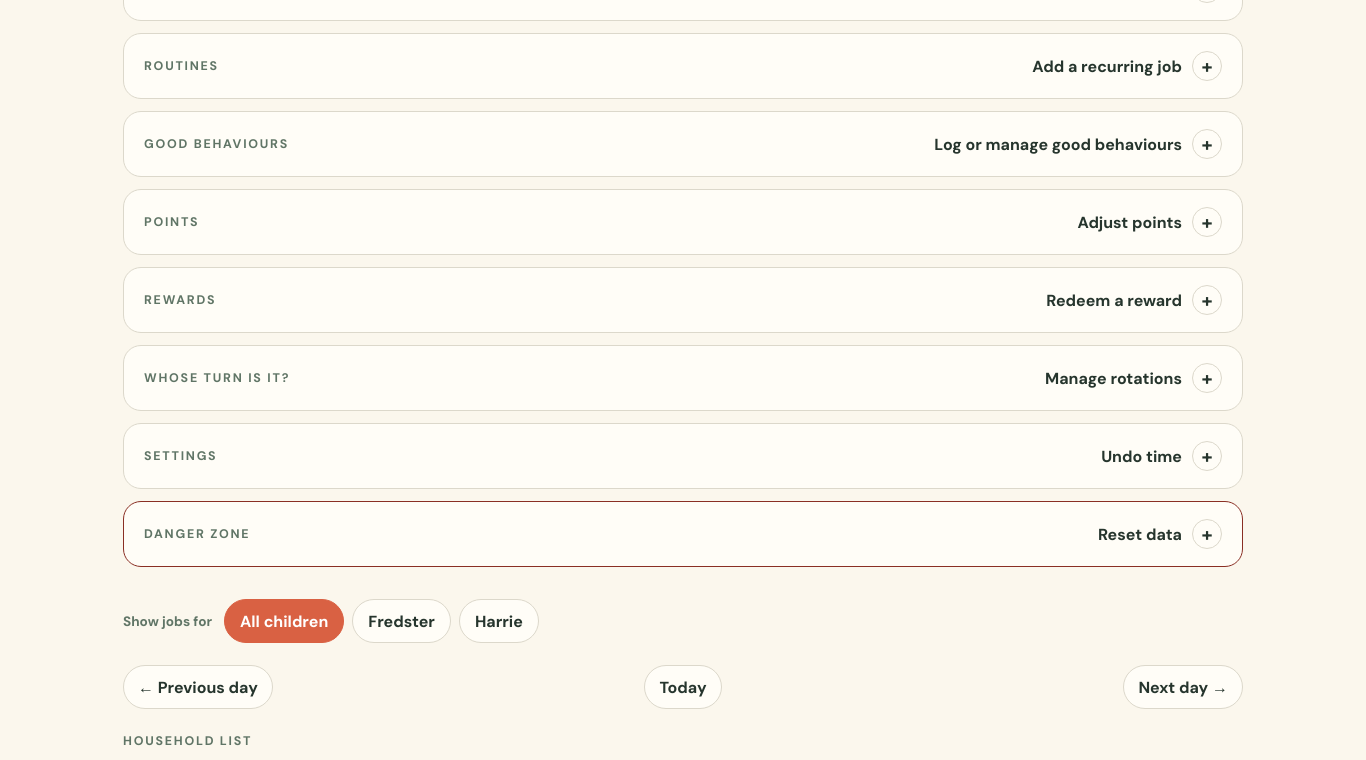
Test case: Whose Turn Is It? › disables submit until at least one participant is selected
The width and height of the screenshot is (1366, 760).
(page scrolled)
Click the text "Manage rotations": (1134, 378) [1045,363,1222,393]
(page scrolled)
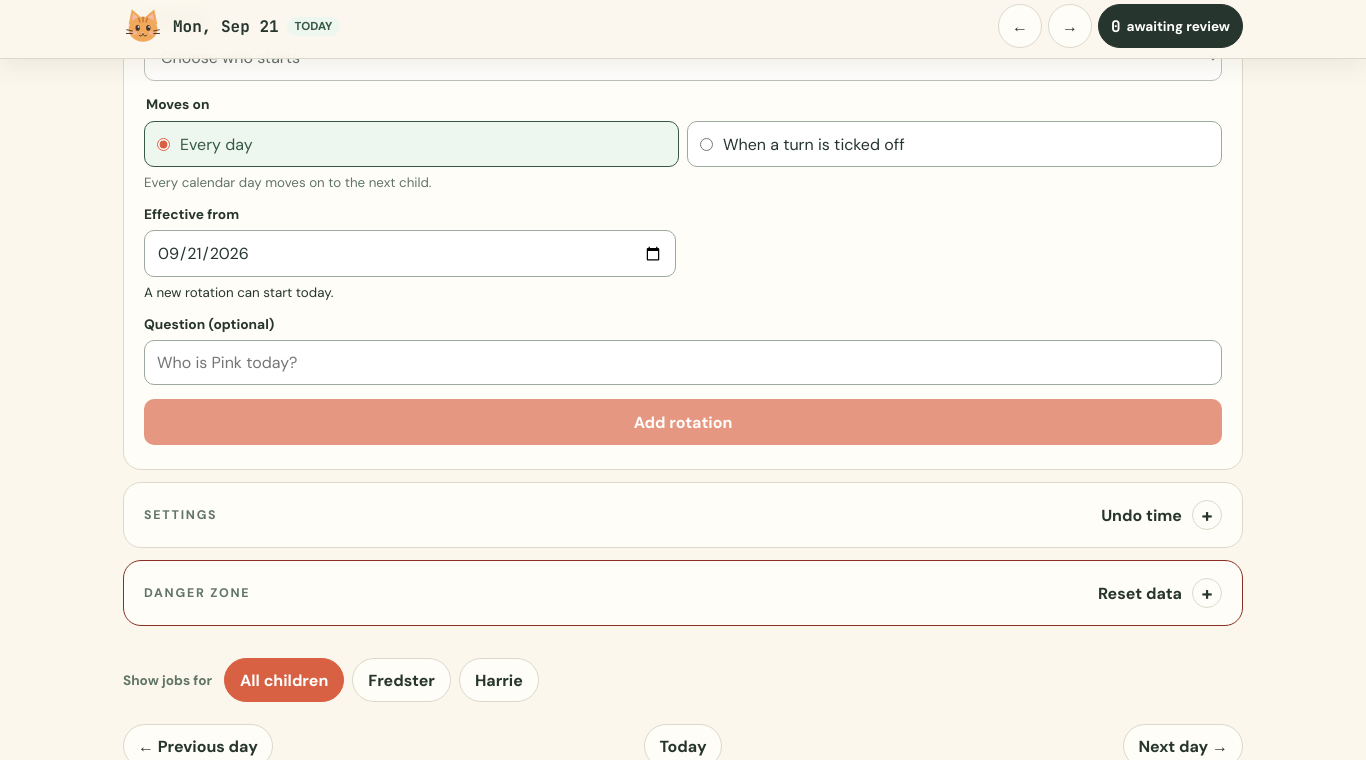
Result: the button "Add rotation" is disabled at [144,399,1222,445]
